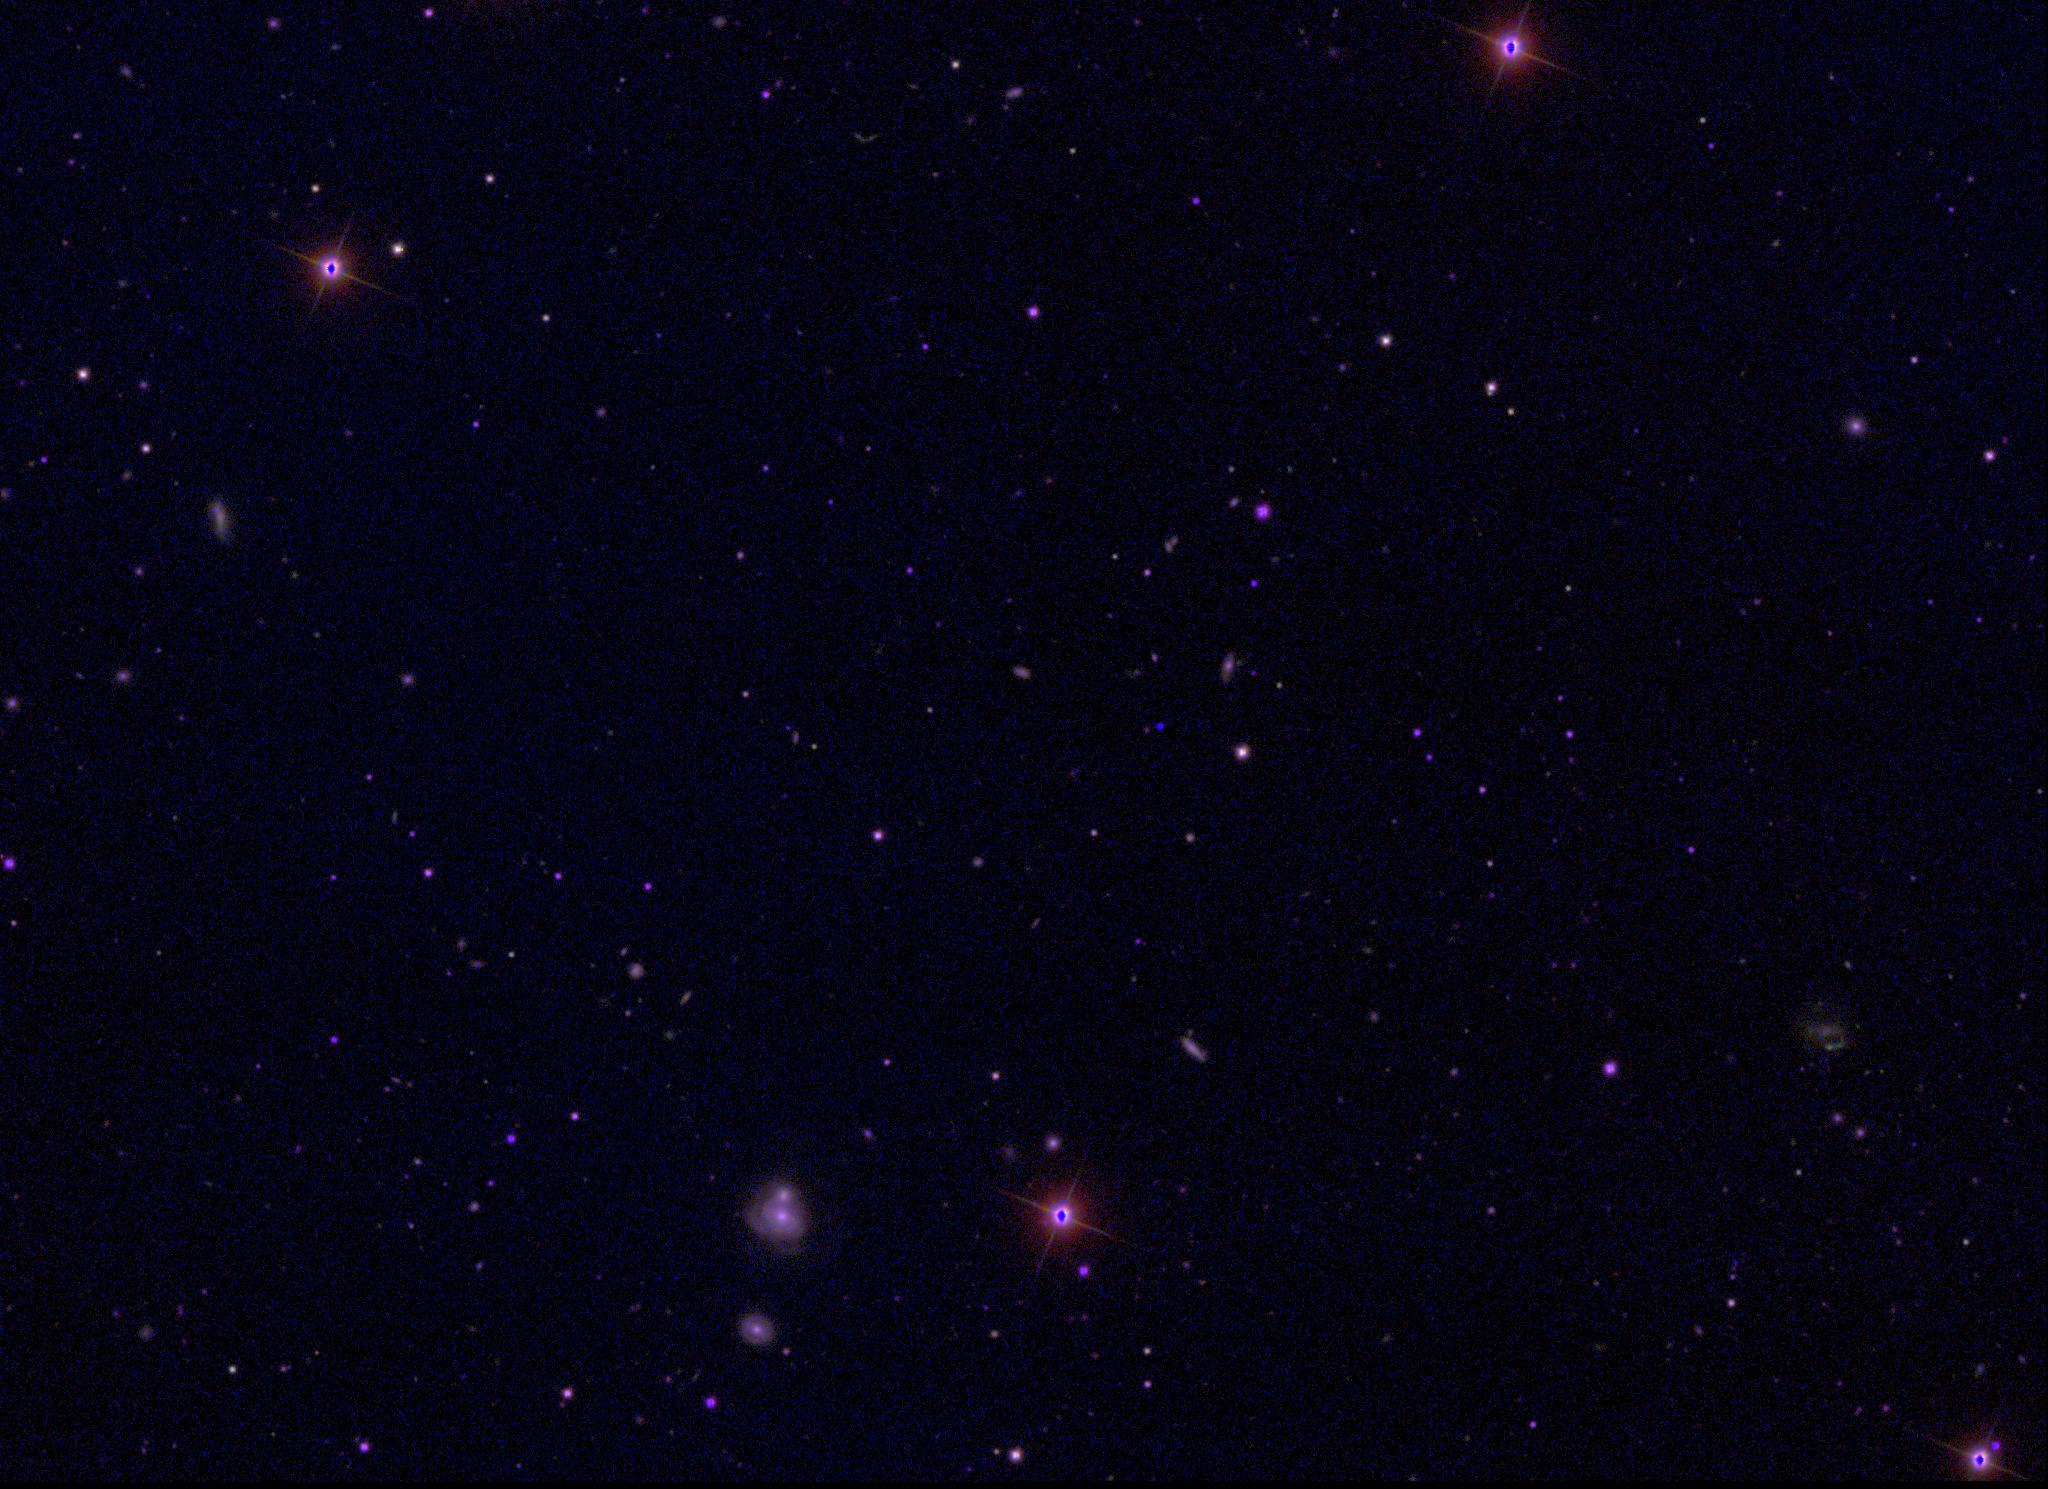L: (1154, 717, 1169, 732)
